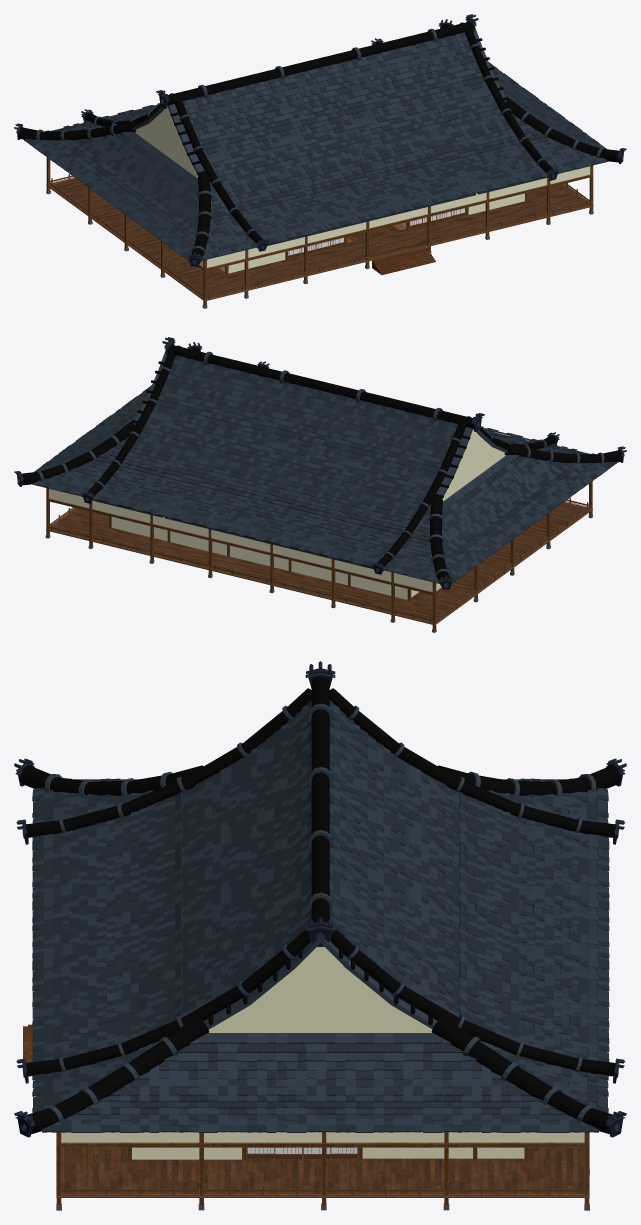
File: Japanese_House_TC+OLD.fbx
The picture shows the model from 3 angles, top to bottom: view 1: azimuth 30°, elevation 25°; view 2: azimuth 150°, elevation 25°; view 3: azimuth 270°, elevation 25°; orthographic projection. The views are drawn at different scales.
Parts seen in each view (by area): view 1: Wooden_Floor_LOD0, Floor Outside.002, Roof_Tile07_JP_LOD0, Roof_Tile07_JP_LOD0.001, Roof_Tile02_JP_LOD0.001, Roof_Tile02_JP_LOD0, Roof_Tile06_JP_LOD0.001, Roof_Tile06_JP_LOD0, Roof_Tile01_JP_LOD0.001, Roof_Tile01_JP_LOD0, Roof_Tile03_JP_LOD0, Roof_Tile03_JP_LOD0.005 (+16 smaller); view 2: Wooden_Floor_LOD0, Floor Outside.002, Roof_Tile07_JP_LOD0.002, Roof_Tile07_JP_LOD0.003, Roof_Tile02_JP_LOD0.003, Roof_Tile02_JP_LOD0.002, Roof_Tile06_JP_LOD0.003, Roof_Tile06_JP_LOD0.002, Roof_Tile01_JP_LOD0.003, Roof_Tile01_JP_LOD0.002, Roof_Tile03_JP_LOD0.001, Roof_Tile03_JP_LOD0.006 (+15 smaller); view 3: Wooden_Floor_LOD0, Floor Outside.002, Roof_Tile06_JP_LOD0, Roof_Tile06_JP_LOD0.002, Roof_Tile06_JP_LOD0.003, Roof_Tile06_JP_LOD0.001, Roof_Tile01_JP_LOD0.003, Roof_Tile01_JP_LOD0.001, Roof_Tile01_JP_LOD0, Roof_Tile01_JP_LOD0.002, Roof_Wall_JP.001, Roof_Tile07_JP_LOD0.003 (+20 smaller).
Part boxes in pixels (box(x1,y1,x2,y2)): Wooden_Floor_LOD0: box(46, 174, 593, 301); Floor Outside.002: box(46, 157, 593, 308); Roof_Tile07_JP_LOD0: box(168, 84, 286, 186); Roof_Tile07_JP_LOD0.001: box(396, 28, 511, 129); Roof_Tile02_JP_LOD0.001: box(323, 49, 432, 146); Roof_Tile02_JP_LOD0: box(250, 67, 359, 164); Roof_Tile06_JP_LOD0.001: box(433, 111, 559, 194); Roof_Tile06_JP_LOD0: box(213, 165, 331, 251); Roof_Tile01_JP_LOD0.001: box(358, 130, 478, 212); Roof_Tile01_JP_LOD0: box(286, 147, 404, 230); Roof_Tile03_JP_LOD0: box(187, 173, 257, 266); Roof_Tile03_JP_LOD0.005: box(505, 99, 626, 173); Wooden_Floor_LOD0: box(46, 498, 592, 625); Floor Outside.002: box(45, 481, 592, 632); Roof_Tile07_JP_LOD0.002: box(354, 407, 472, 509); Roof_Tile07_JP_LOD0.003: box(129, 350, 244, 452); Roof_Tile02_JP_LOD0.003: box(208, 372, 317, 469); Roof_Tile02_JP_LOD0.002: box(281, 390, 390, 487); Roof_Tile06_JP_LOD0.003: box(81, 434, 207, 517); Roof_Tile06_JP_LOD0.002: box(309, 488, 427, 574); Roof_Tile01_JP_LOD0.003: box(162, 453, 281, 535); Roof_Tile01_JP_LOD0.002: box(236, 470, 354, 553); Roof_Tile03_JP_LOD0.001: box(383, 496, 453, 589); Roof_Tile03_JP_LOD0.006: box(14, 421, 135, 496); Wooden_Floor_LOD0: box(56, 1132, 589, 1197); Floor Outside.002: box(56, 1131, 589, 1210); Roof_Tile06_JP_LOD0: box(16, 781, 190, 892); Roof_Tile06_JP_LOD0.002: box(451, 781, 624, 893); Roof_Tile06_JP_LOD0.003: box(450, 967, 624, 1083); Roof_Tile06_JP_LOD0.001: box(16, 967, 190, 1083); Roof_Tile01_JP_LOD0.003: box(450, 906, 609, 1014); Roof_Tile01_JP_LOD0.001: box(32, 906, 190, 1014); Roof_Tile01_JP_LOD0: box(32, 846, 190, 952); Roof_Tile01_JP_LOD0.002: box(450, 846, 609, 953); Roof_Wall_JP.001: box(209, 947, 432, 1032); Roof_Tile07_JP_LOD0.003: box(320, 876, 464, 1029).
Size of what is drawn, in the model's own units: 3815 by 1262 by 2740.
